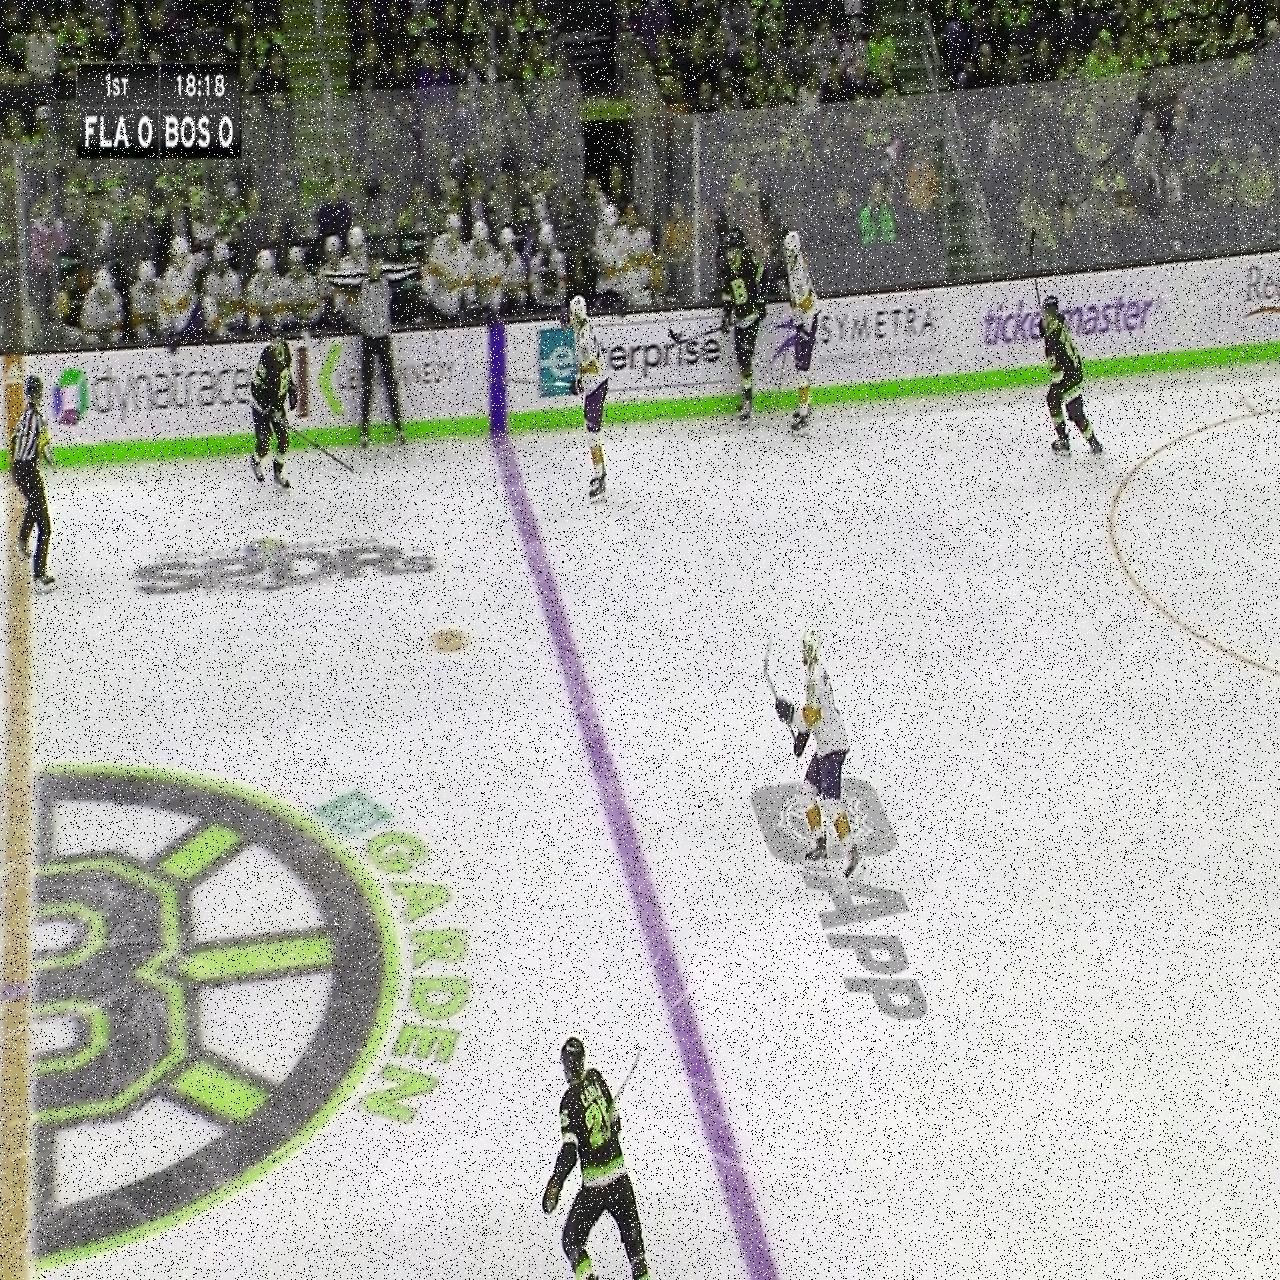Ad: (742, 756, 940, 1035), (135, 529, 438, 602), (532, 318, 733, 399), (52, 361, 274, 425), (293, 334, 462, 413), (980, 286, 1163, 349), (770, 306, 940, 373)
